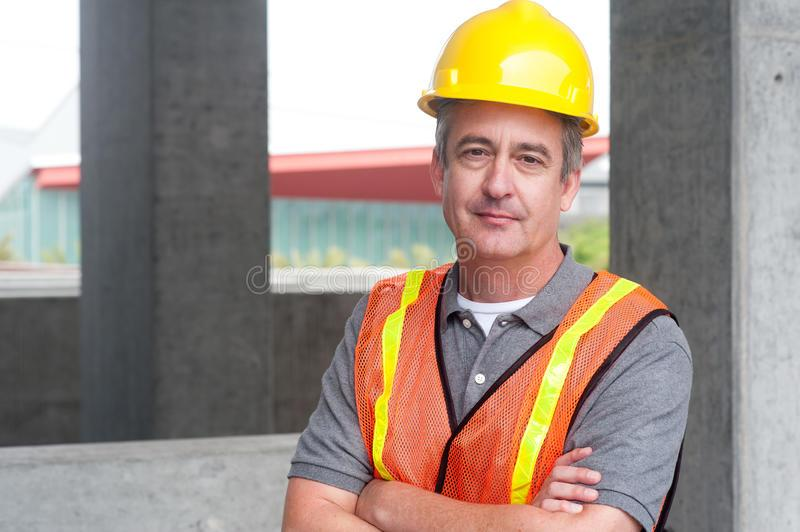helmet: (419, 1, 600, 136)
